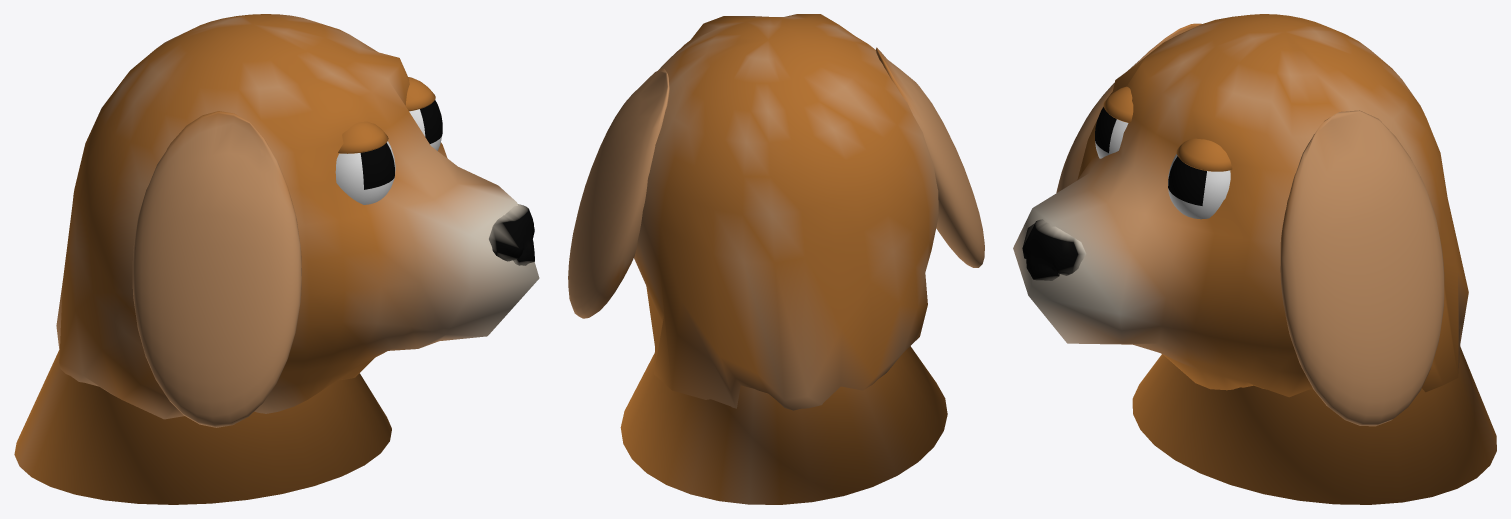
Rendered from almond.fbx.
3 renders of one model, left to right at view 1: azimuth 30°, elevation 25°; view 2: azimuth 150°, elevation 25°; view 3: azimuth 270°, elevation 25°, orthographic. The views are drawn at different scales.
Parts seen in each view (by area): view 1: head, eyes; view 2: head; view 3: head, eyes.
Boxes of the visible parts, <box> form: head: <box>14,14,539,504</box>; eyes: <box>335,100,442,204</box>; head: <box>568,14,984,504</box>; head: <box>1013,14,1496,504</box>; eyes: <box>1095,107,1230,219</box>.
Bounding box in the file's own units: 242 × 257 × 263.
